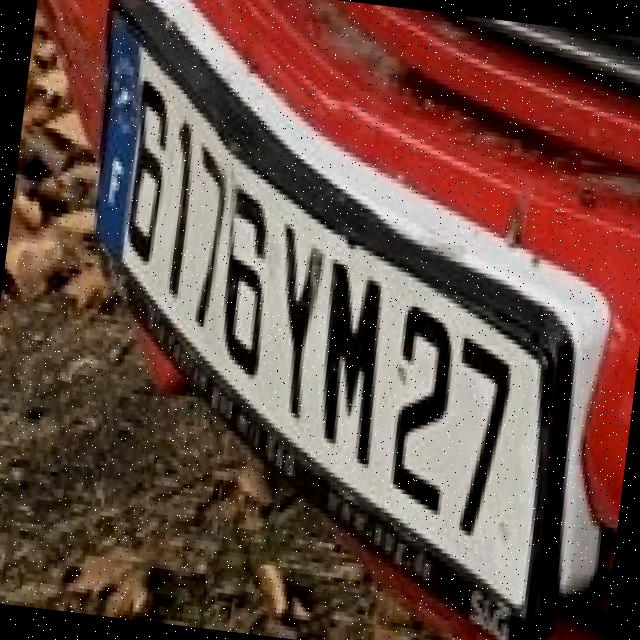EU: (85, 0, 554, 620)
France: (81, 6, 145, 264)
